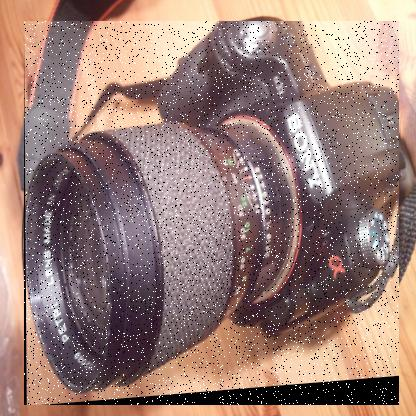Camera: (26, 22, 402, 407)
